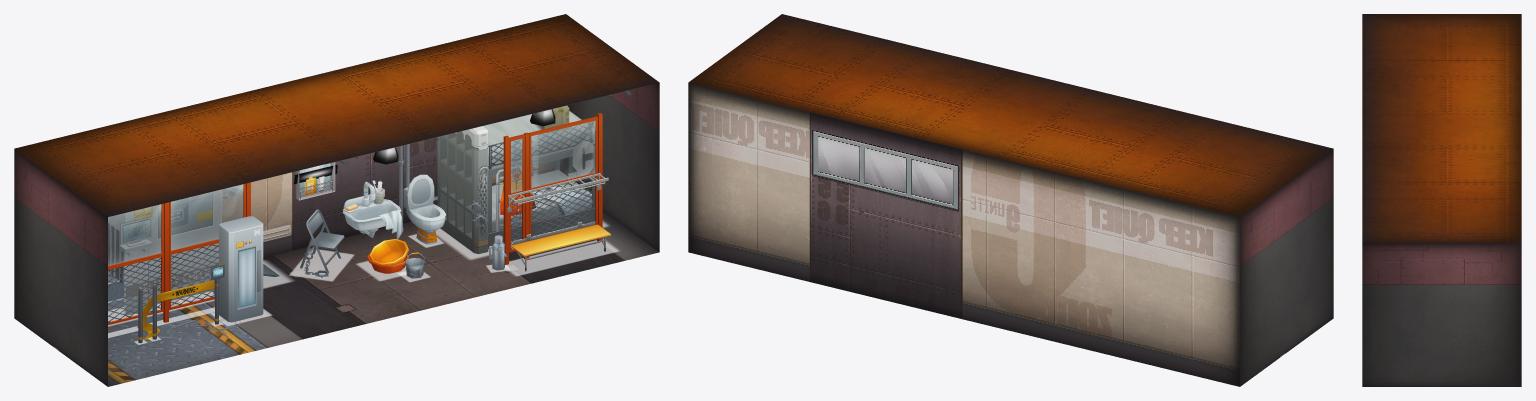
The model's file is prison.glb.
The picture shows the model from 3 angles, left to right: view 1: azimuth 30°, elevation 25°; view 2: azimuth 150°, elevation 25°; view 3: azimuth 270°, elevation 25°; orthographic projection. The views are drawn at different scales.
Visible parts, largest first — view 1: ROOM_room, ROOM_floor, furni_prison_device_01, furni_prison_waitingArea_01, furni_prison_bed_01, furni_prison_partition2_01, furni_prison_partition1_02, furni_prison_bed_03, furni_prison_partition2_03, furni_prison_bed_02, furni_prison_partition1_03, furni_prison_partition1_01 (+14 smaller); view 2: ROOM_room, ROOM_LDoor; view 3: ROOM_room, ROOM_RDoor.
Boxes of the visible parts, box(x1,y1,x2,y2) form: ROOM_room: box(14, 14, 659, 386); ROOM_floor: box(108, 211, 659, 386); furni_prison_device_01: box(108, 185, 279, 316); furni_prison_waitingArea_01: box(137, 216, 263, 343); furni_prison_bed_01: box(483, 105, 594, 249); furni_prison_partition2_01: box(503, 113, 610, 272); furni_prison_partition1_02: box(108, 184, 243, 265); furni_prison_bed_03: box(437, 126, 488, 254); furni_prison_partition2_03: box(511, 120, 595, 193); furni_prison_bed_02: box(469, 122, 593, 241); furni_prison_partition1_03: box(108, 244, 218, 322); furni_prison_partition1_01: box(108, 182, 250, 324); ROOM_room: box(688, 14, 1333, 386); ROOM_LDoor: box(1300, 251, 1319, 341); ROOM_room: box(1362, 14, 1521, 386); ROOM_RDoor: box(1385, 321, 1418, 386).
Bounding box in the file's own units: 7.56 × 2.2 × 2.2.
Materials: 7 (7 with a texture image).
